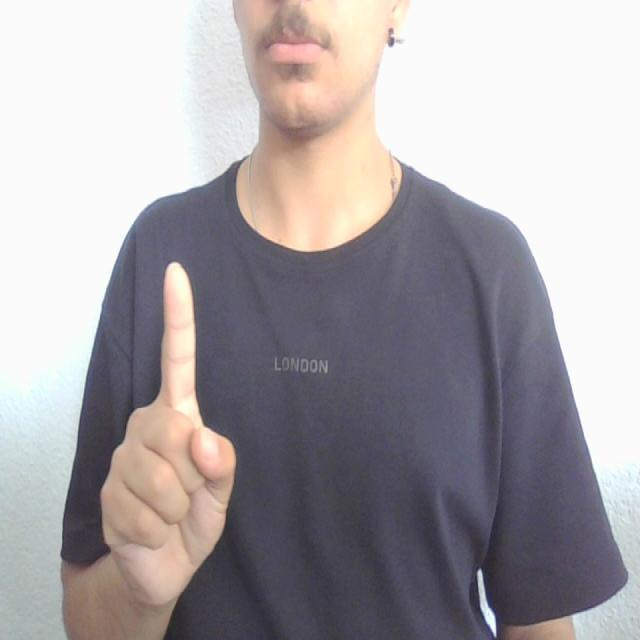Hayir: (88, 260, 258, 640)
